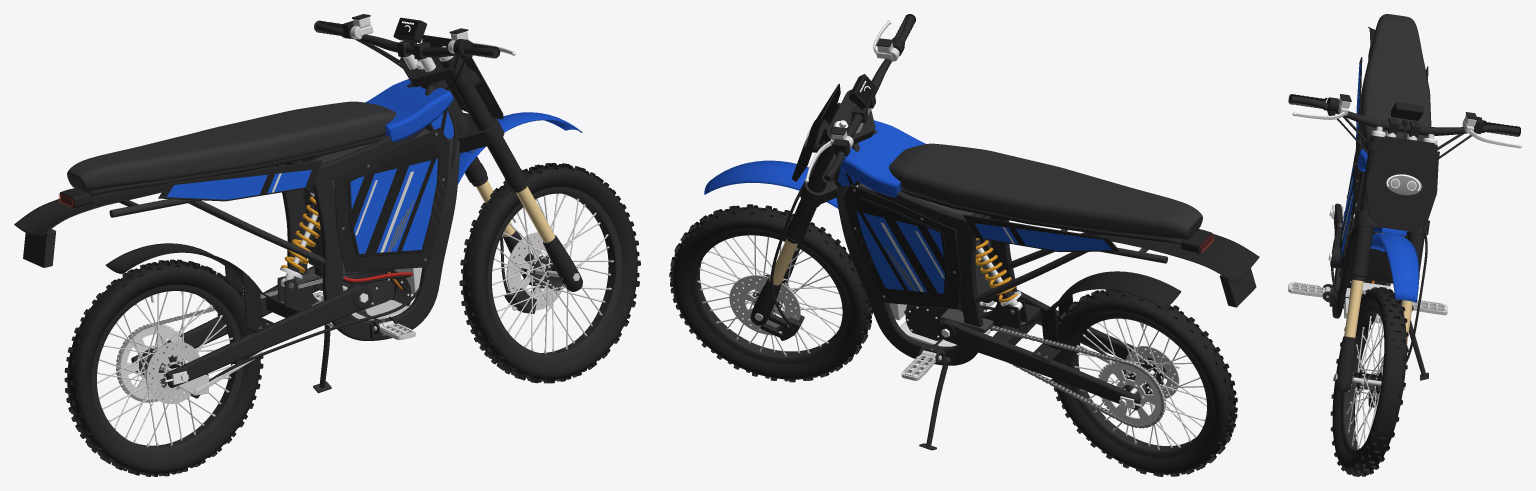
The model's file is surron-light-bee-x-blue.glb.
3 renders of one model, left to right at view 1: azimuth 30°, elevation 25°; view 2: azimuth 150°, elevation 25°; view 3: azimuth 270°, elevation 25°, orthographic. The views are drawn at different scales.
Parts seen in each view (by area): view 1: Seat, Tire_R, Tire_F, Frame_Main, Graphics_Main, Swingarm_Arms, SidePanel_R, Rim_F, Rim_R, Spokes_F, Spokes_R, Graphics_Black (+27 smaller); view 2: Seat, Tire_F, Tire_R, Frame_Main, Swingarm_Arms, Graphics_Main, Rim_F, SidePanel_L, Rim_R, TankCover, RearFender, Spokes_R (+23 smaller); view 3: Seat, Tire_F, HeadlightShroud, FrontFender, Spokes_F, Rim_F, Handlebar, Fork_Upper_R, Frame_Main, Battery_Pack, Fork_Lug_R, Fork_Stanchion_R (+15 smaller).
Boxes of the visible parts, x1,y1,x2,y2 form: Seat: [67, 101, 396, 191]; Tire_R: [64, 259, 263, 476]; Tire_F: [459, 163, 640, 383]; Frame_Main: [275, 82, 459, 340]; Graphics_Main: [166, 111, 453, 253]; Swingarm_Arms: [131, 266, 372, 387]; SidePanel_R: [334, 127, 449, 272]; Rim_F: [487, 186, 622, 360]; Rim_R: [91, 284, 243, 455]; Spokes_F: [492, 194, 612, 352]; Spokes_R: [97, 291, 233, 446]; Graphics_Black: [260, 109, 447, 253]; Seat: [889, 143, 1202, 239]; Tire_F: [669, 204, 873, 382]; Tire_R: [1050, 289, 1237, 476]; Frame_Main: [834, 130, 1016, 365]; Swingarm_Arms: [937, 280, 1170, 410]; Graphics_Main: [837, 167, 1111, 293]; Rim_F: [689, 231, 848, 364]; SidePanel_L: [843, 184, 961, 309]; Rim_R: [1066, 313, 1211, 458]; TankCover: [840, 120, 925, 197]; RearFender: [1094, 234, 1259, 282]; Spokes_R: [1075, 318, 1206, 449]; Seat: [1359, 14, 1431, 147]; Tire_F: [1330, 287, 1408, 476]; HeadlightShroud: [1365, 136, 1438, 231]; FrontFender: [1370, 232, 1419, 302]; Spokes_F: [1346, 315, 1383, 448]; Rim_F: [1340, 306, 1382, 455]; Handlebar: [1289, 96, 1519, 135]; Fork_Upper_R: [1350, 135, 1383, 277]; Frame_Main: [1329, 136, 1408, 318]; Battery_Pack: [1350, 174, 1407, 283]; Fork_Lug_R: [1335, 336, 1355, 391]; Fork_Stanchion_R: [1344, 279, 1363, 337].
Size of the model in its own units: 1.97 by 1.19 by 0.7598.
